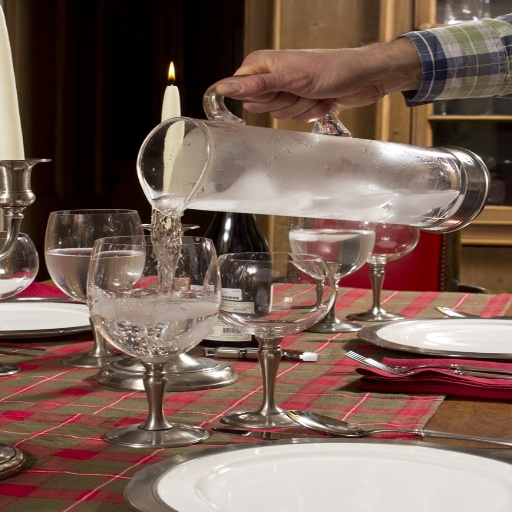hand: (214, 35, 451, 119)
